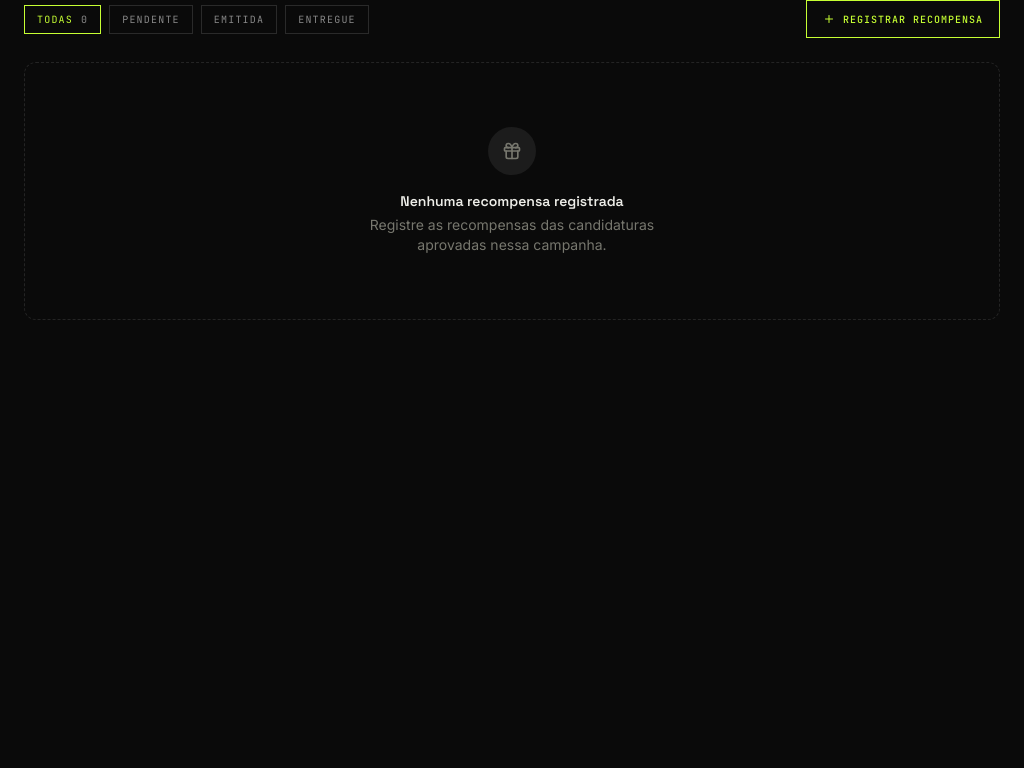
Test case: CampaignRewardsTab › abre modal de criação ao clicar em "Registrar recompensa"
What coordinates should you click on to do the following:
click the button "Registrar recompensa"
I would click on:
 (903, 19)
Its box is [806, 0, 1000, 38].
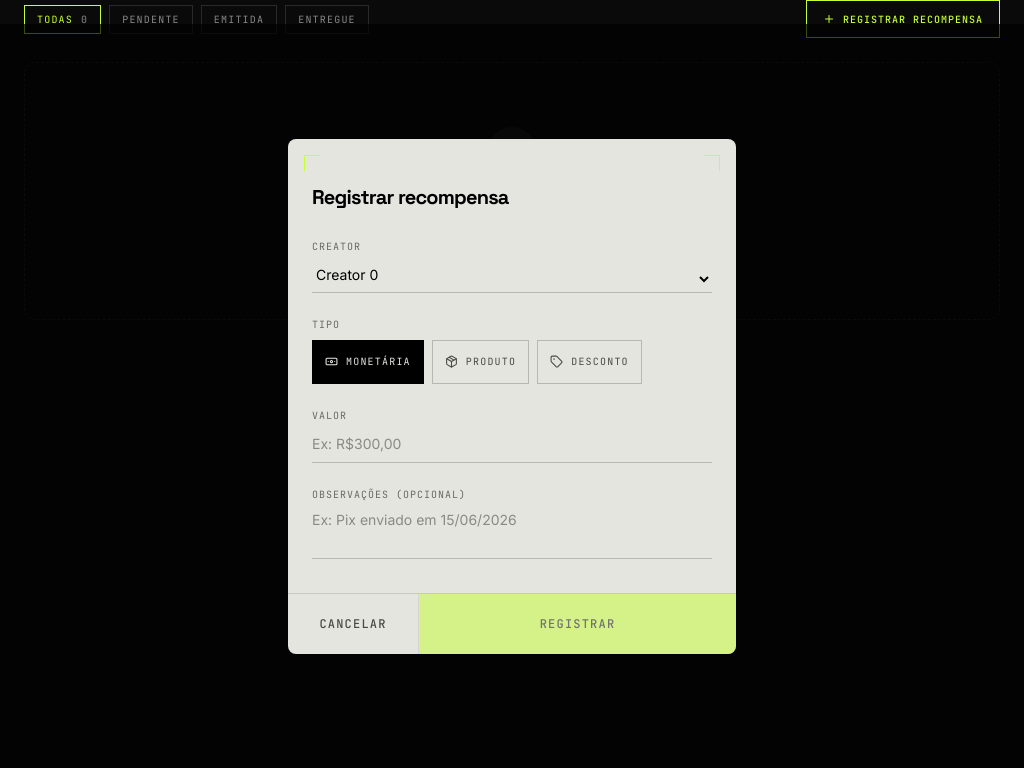
Now the heading "Registrar recompensa" is shown, box [312, 184, 509, 210]
